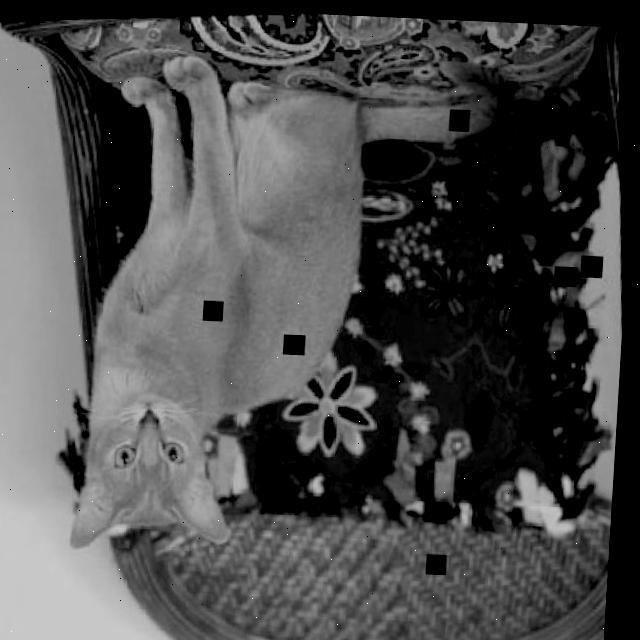Cat: (34, 41, 397, 564)
